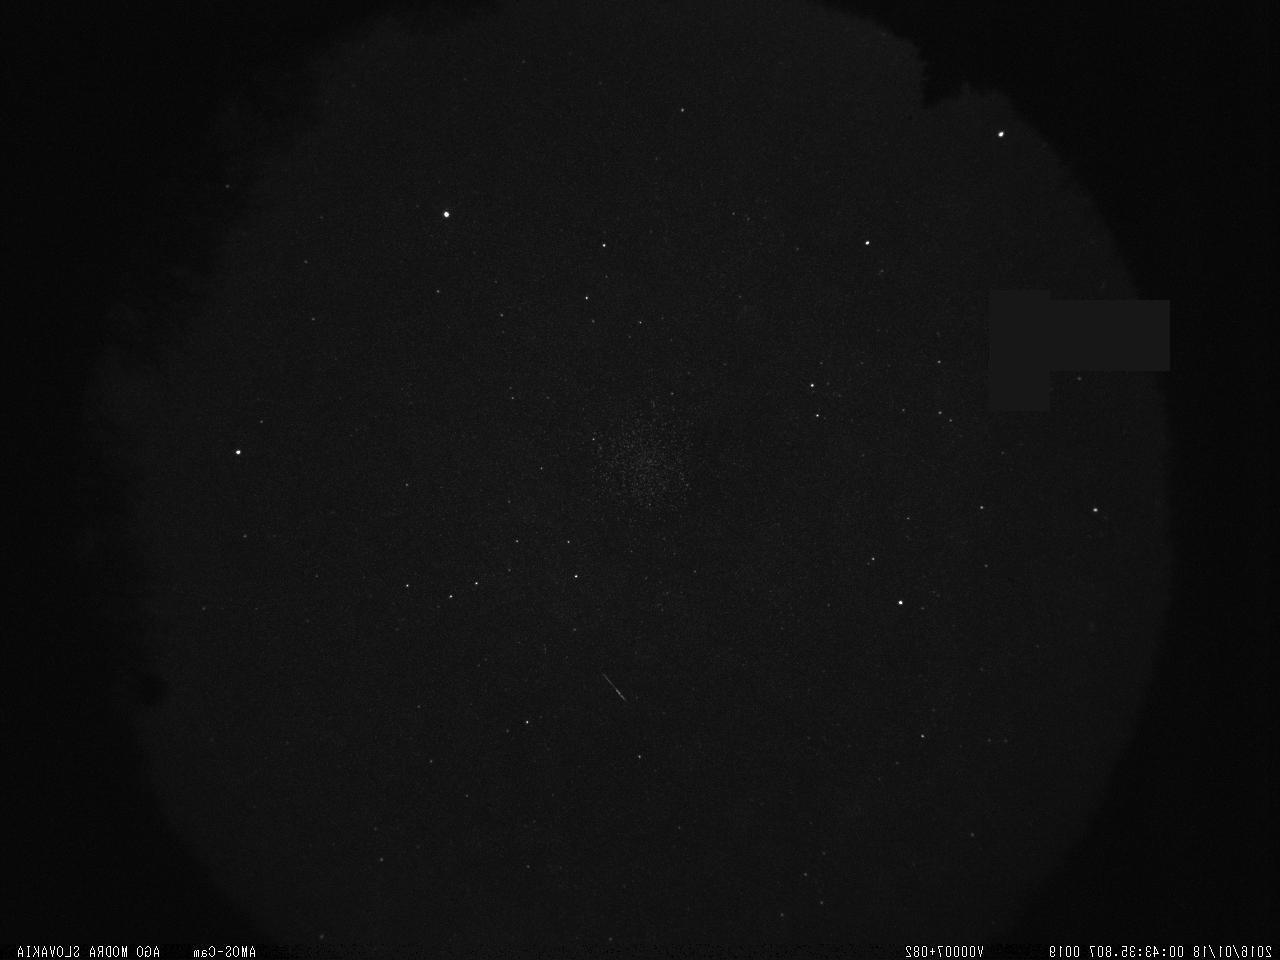meteor: (597, 663, 631, 708)
